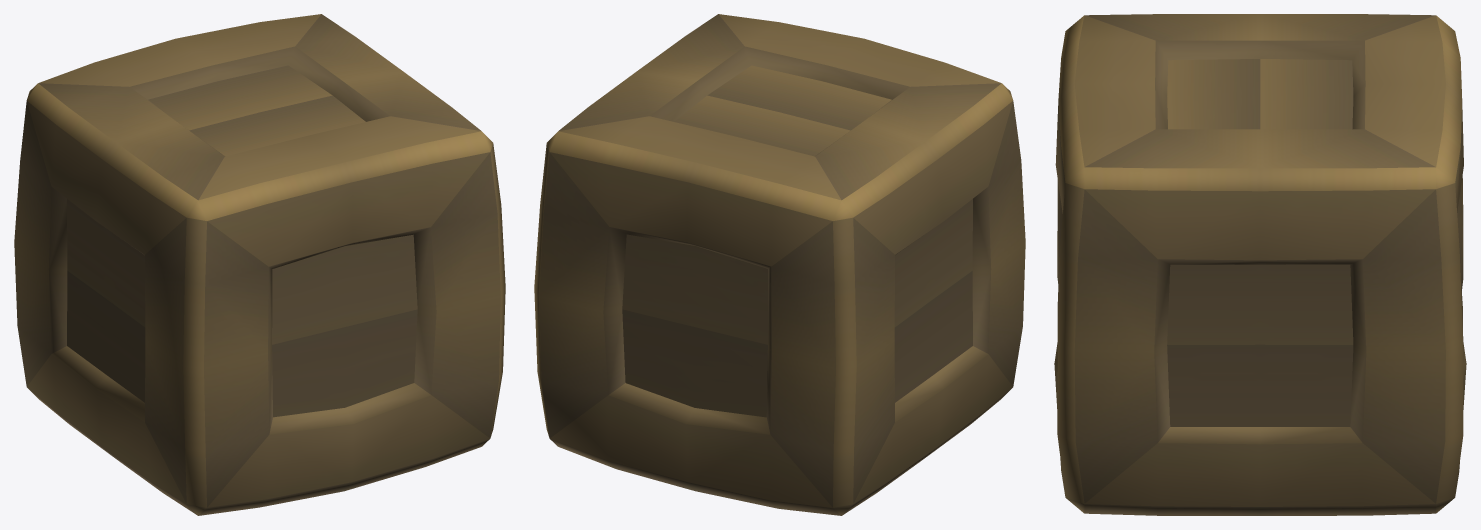
File: box_wooden_2.fbx
3 renders of one model, left to right at view 1: azimuth 30°, elevation 25°; view 2: azimuth 150°, elevation 25°; view 3: azimuth 270°, elevation 25°, orthographic. The views are drawn at different scales.
Parts seen in each view (by area): view 1: box_wooden_2; view 2: box_wooden_2; view 3: box_wooden_2.
Part boxes in pixels (bbox=[...]): box_wooden_2: bbox=[14, 14, 505, 515]; box_wooden_2: bbox=[534, 14, 1025, 515]; box_wooden_2: bbox=[1054, 14, 1466, 515].
Bounding box in the file's own units: 109 × 104 × 108.
